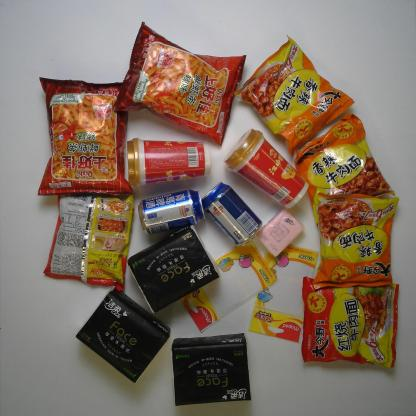Alcohol: (200, 179, 265, 248), (136, 188, 208, 237)
Instant Drink: (222, 125, 311, 212), (123, 134, 215, 190)
Instant Noodles: (232, 32, 358, 160), (290, 111, 398, 230), (296, 272, 402, 370), (42, 190, 137, 295), (310, 185, 398, 291)
Puffed Food: (110, 19, 250, 148), (33, 73, 141, 200)
Stationery: (171, 237, 281, 335), (246, 244, 322, 345)
Tissue: (70, 283, 172, 386), (124, 224, 222, 316), (169, 331, 253, 408), (254, 205, 307, 259)
